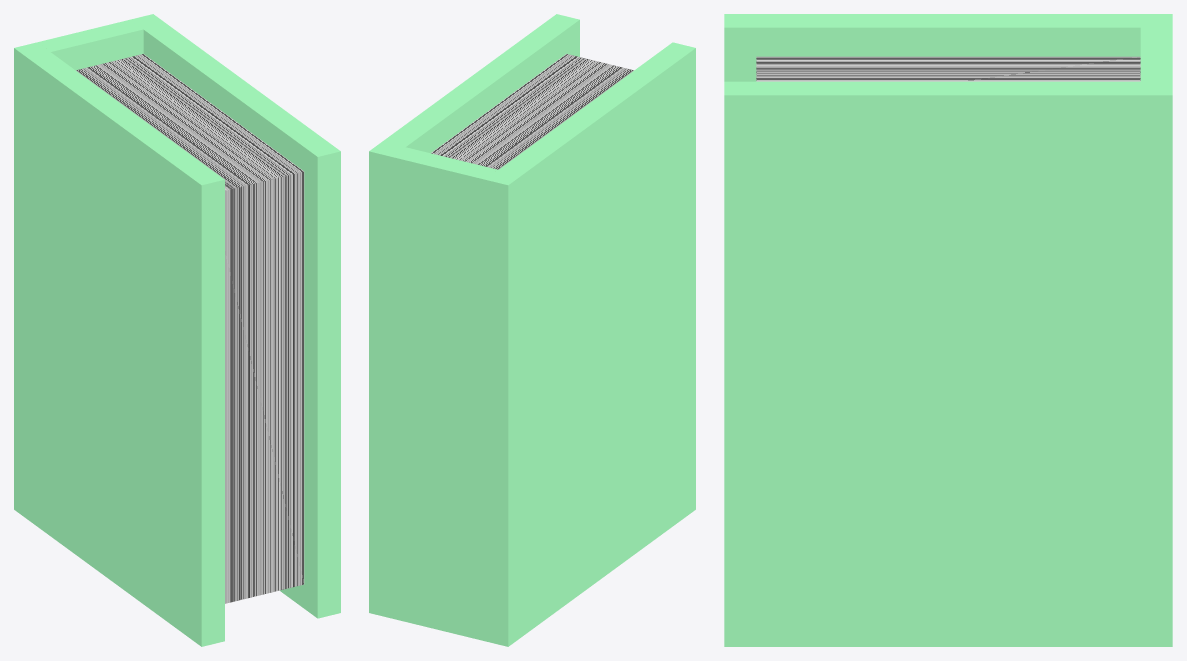
Rendered from book_green.glb.
The picture shows the model from 3 angles, left to right: view 1: azimuth 30°, elevation 25°; view 2: azimuth 150°, elevation 25°; view 3: azimuth 270°, elevation 25°; orthographic projection. The views are drawn at different scales.
Size of the model in its own units: 12 by 38 by 28.
1 material, 1 textured.
